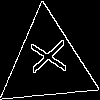X: (22, 38, 67, 76)
